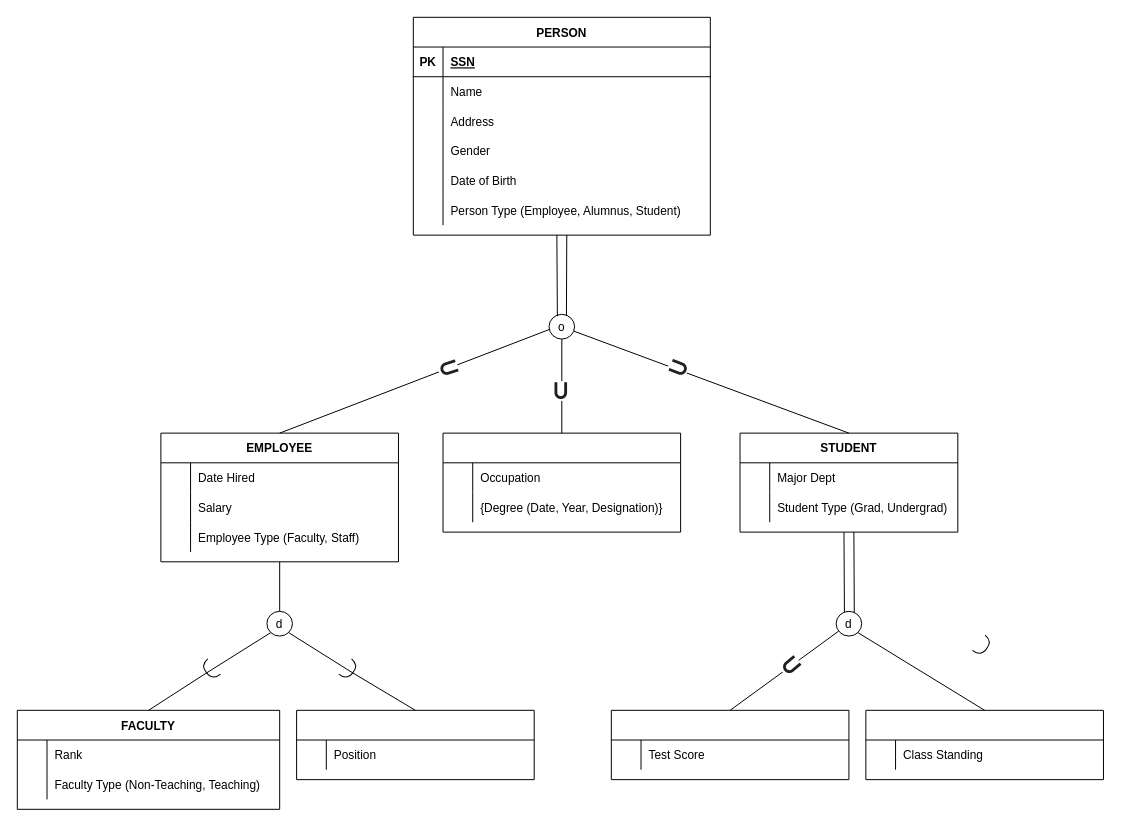
This 1122x827 diagram has some shape labels left out. The box of each missing label's shape, as (x1, y1, x2, y2) in pixels:
ALUMNUS: (442, 432, 681, 532)
GRADUATE: (610, 709, 849, 780)
STAFF: (296, 709, 534, 780)
UNDERGRADUATE: (865, 709, 1103, 780)
